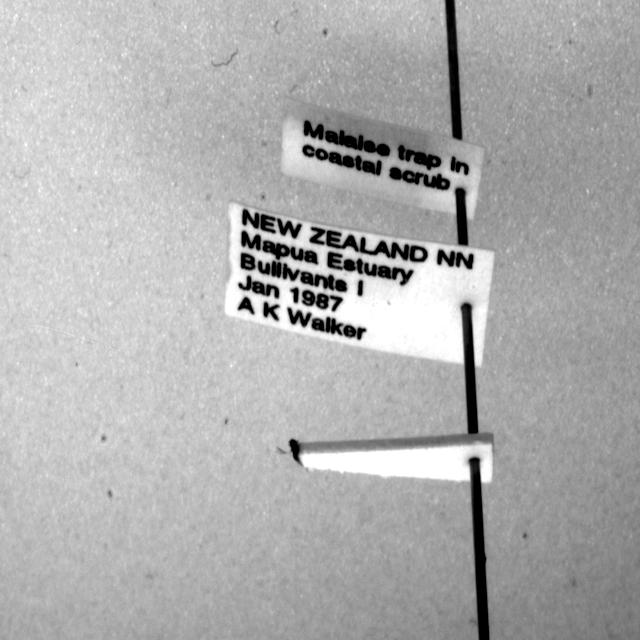typed_label: (225, 202, 494, 366), (281, 98, 485, 219)
